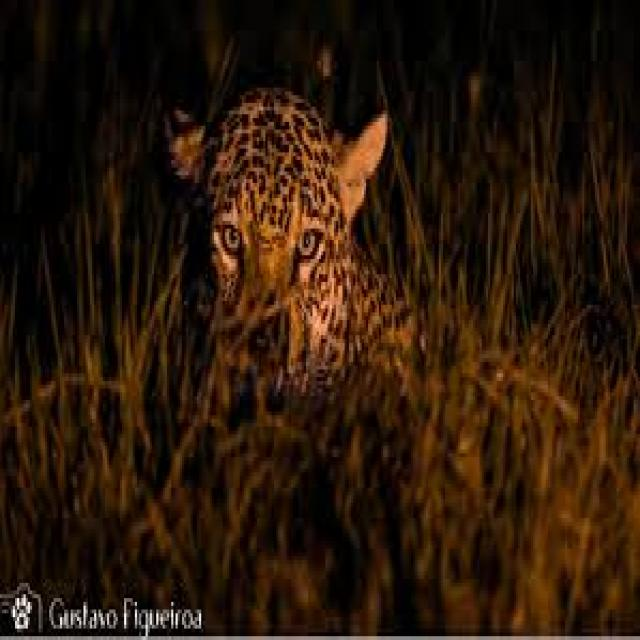Jaguar: (156, 88, 409, 400)
